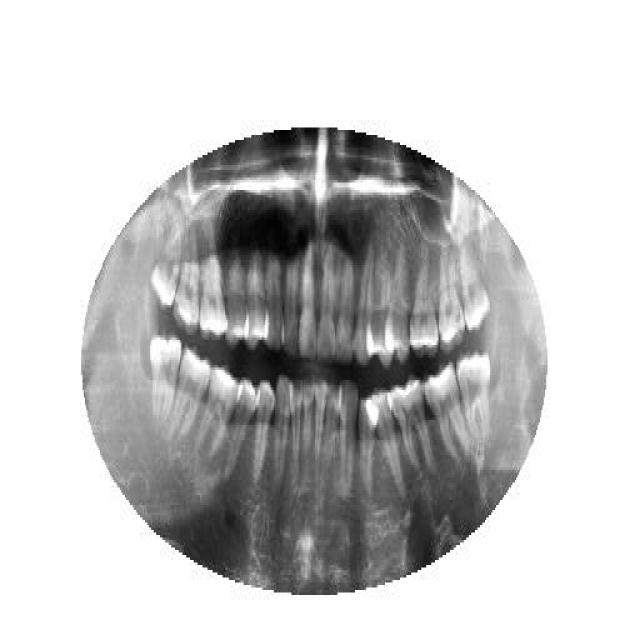Fillings: (358, 392, 378, 492)
